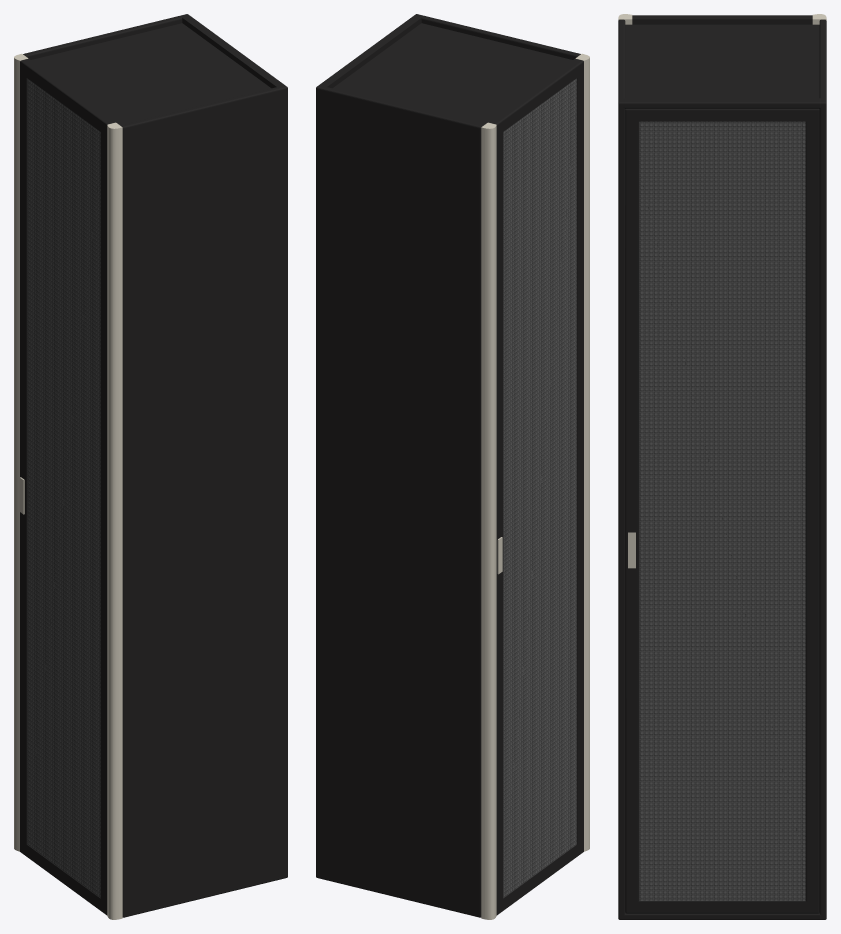
3 views of the same model, side by side, from view 1: azimuth 30°, elevation 25°; view 2: azimuth 150°, elevation 25°; view 3: azimuth 270°, elevation 25° (orthographic). The views are drawn at different scales.
Visible parts, largest first — view 1: 标准机架0.6*0.6*2.6; view 2: 标准机架0.6*0.6*2.6; view 3: 标准机架0.6*0.6*2.6.
Boxes of the visible parts, x1,y1,x2,y2 form: 标准机架0.6*0.6*2.6: (14,14,287,919); 标准机架0.6*0.6*2.6: (316,14,589,919); 标准机架0.6*0.6*2.6: (618,14,826,919).
Size of the model in its own units: 608 by 2600 by 600.
3 materials, 1 textured.
